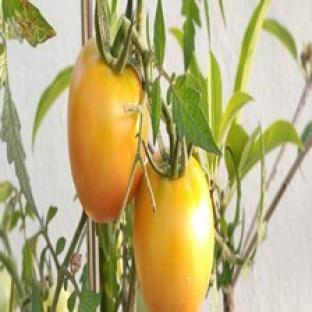Tomato: (69, 39, 143, 222), (134, 158, 214, 311), (0, 268, 11, 311), (56, 289, 71, 311)
